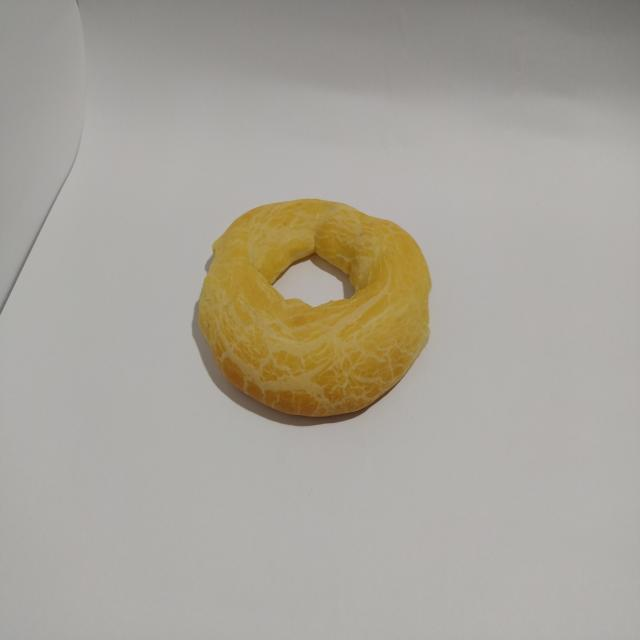Food: (188, 194, 442, 431)
